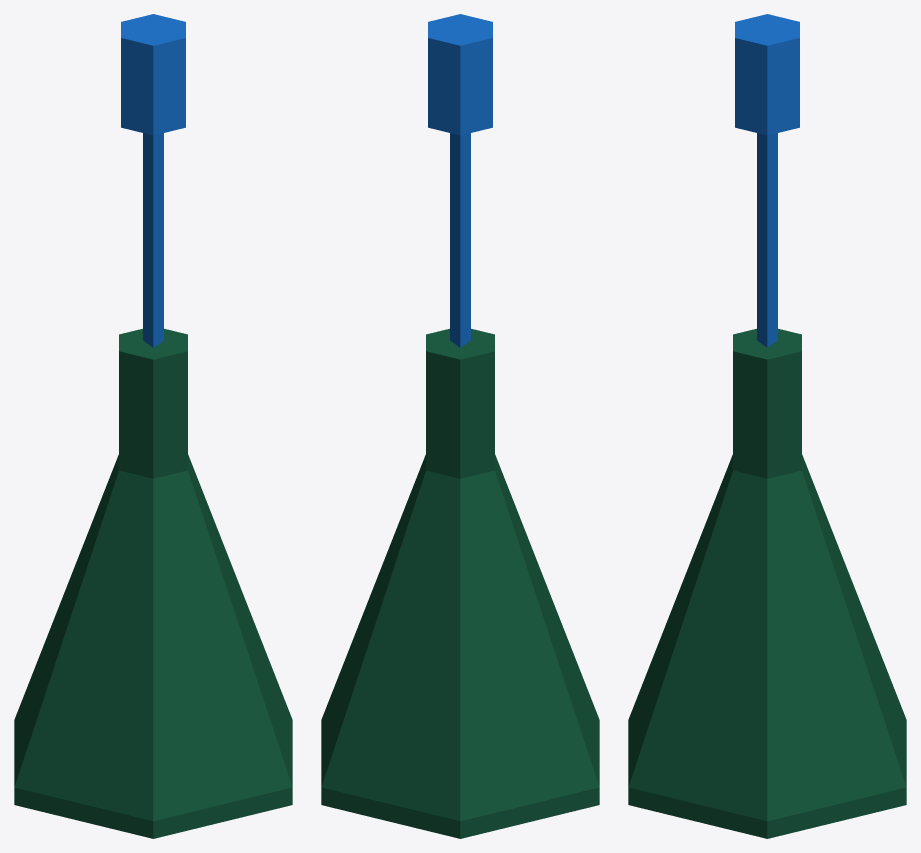
The model's file is T_ceiling_lamp1.fbx.
3 renders of one model, left to right at view 1: azimuth 30°, elevation 25°; view 2: azimuth 150°, elevation 25°; view 3: azimuth 270°, elevation 25°, orthographic.
Parts seen in each view (by area): view 1: ceiling_lamp1; view 2: ceiling_lamp1; view 3: ceiling_lamp1.
Boxes of the visible parts, x1,y1,x2,y2 form: ceiling_lamp1: (14,14,292,838); ceiling_lamp1: (321,14,599,838); ceiling_lamp1: (628,14,906,838).
Bounding box in the file's own units: 40.11 × 102 × 34.74.
